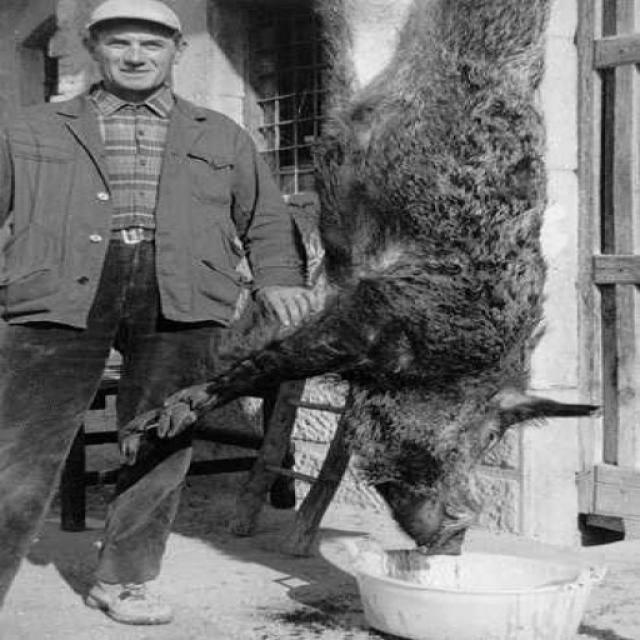pig: (299, 0, 639, 588)
